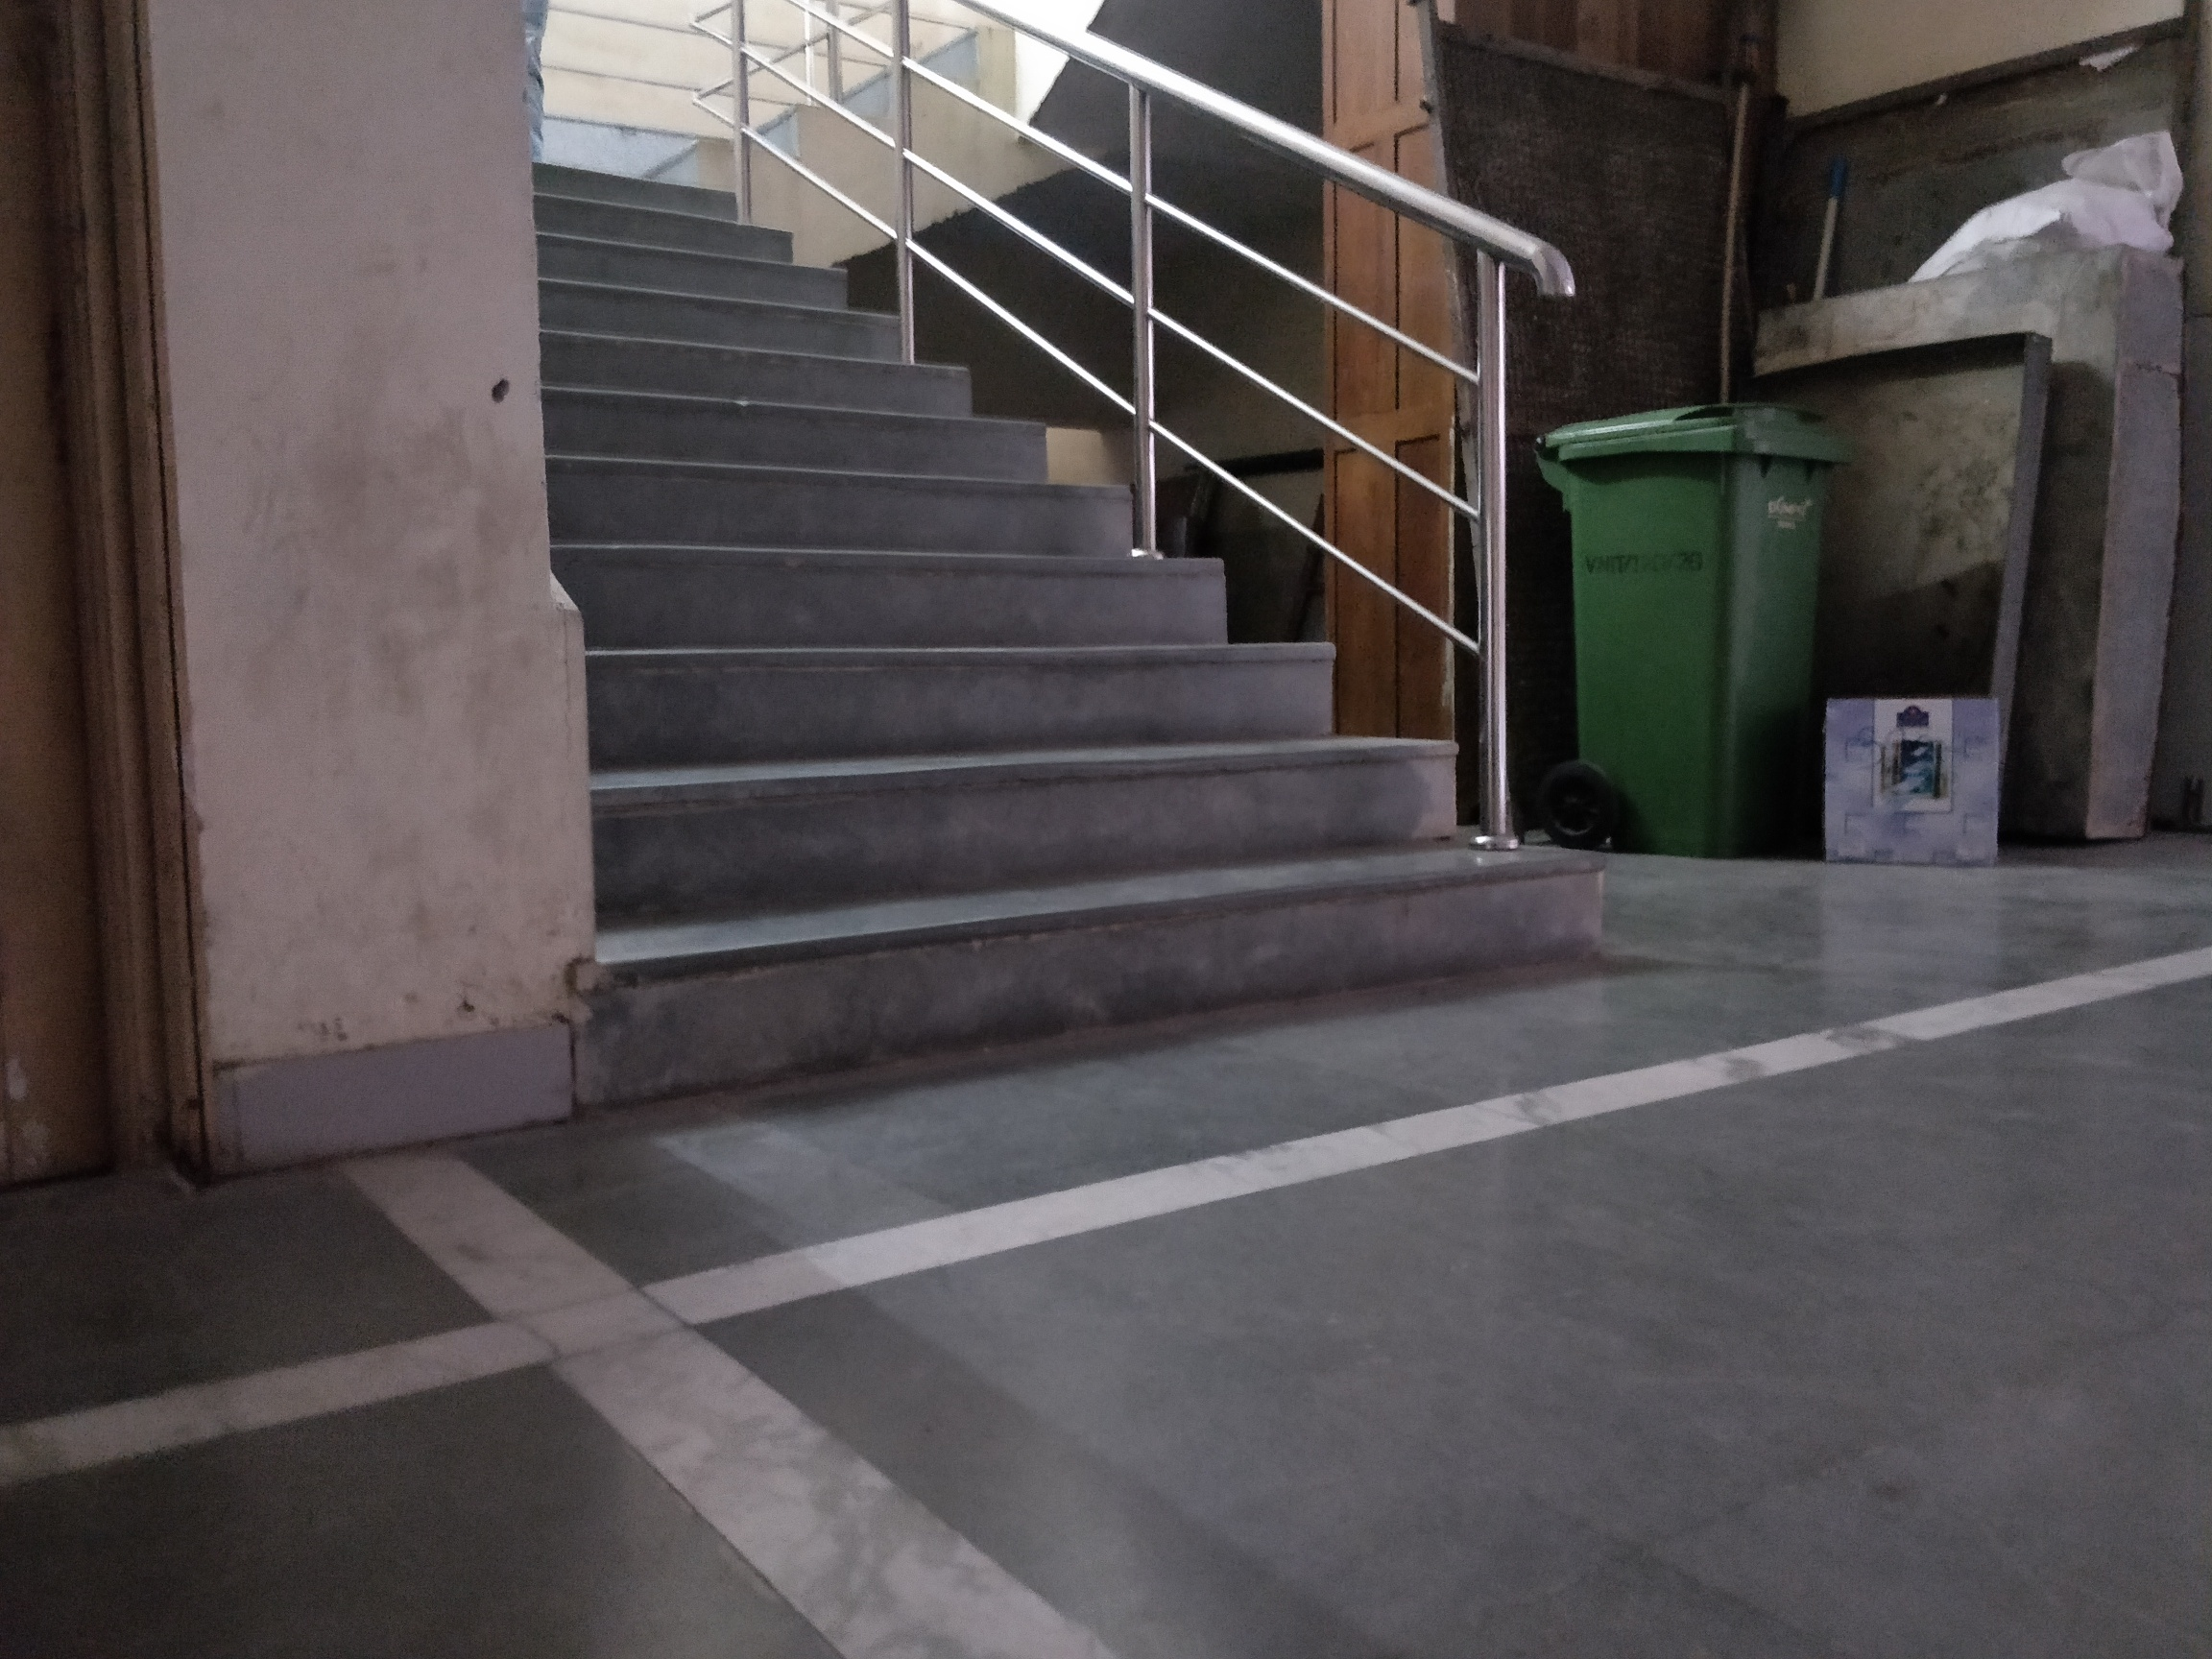stairs_up: (547, 167, 1583, 1047)
